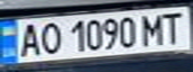0: (118, 15, 142, 48), (84, 16, 106, 52)
1: (63, 17, 87, 52)
9: (100, 16, 121, 51)
A: (12, 20, 42, 57)
M: (139, 11, 169, 46)
O: (36, 19, 66, 55)
T: (157, 9, 190, 44)
